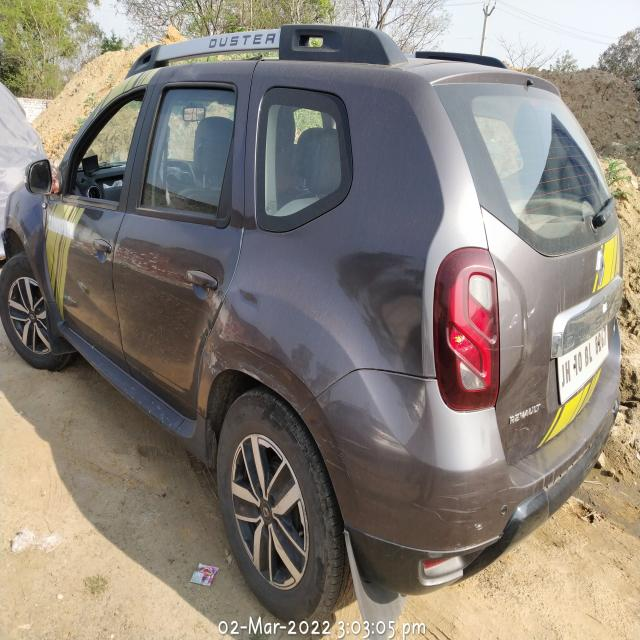damage: (418, 483, 487, 535), (318, 424, 373, 475), (203, 335, 226, 377)
